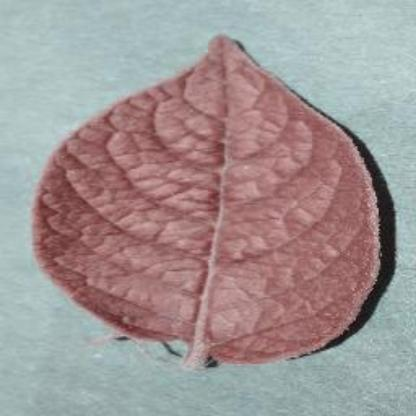Healthy-plant: (26, 29, 394, 367)
